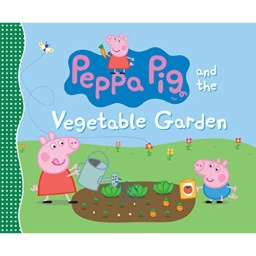Peppa: (31, 131, 83, 205)
